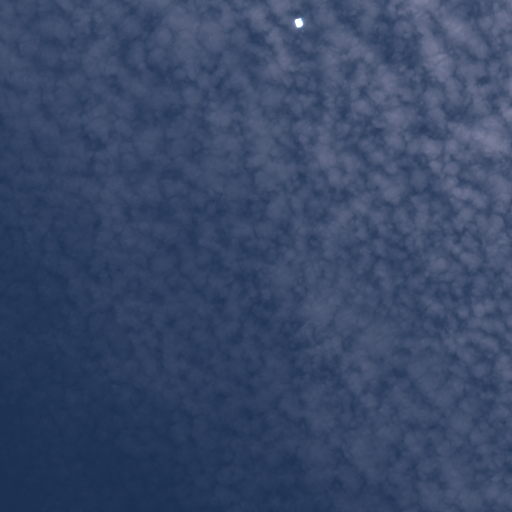Iceberg: (294, 17, 303, 27)
